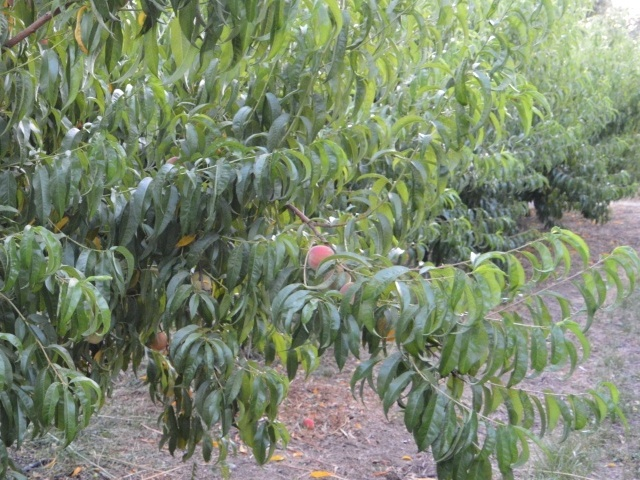peach: (304, 241, 336, 275), (148, 327, 173, 353)
